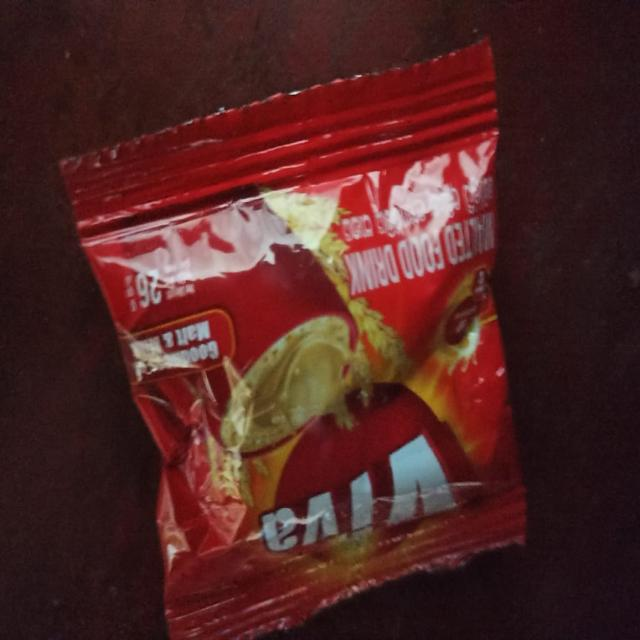Viva Malt: (37, 92, 591, 617)
